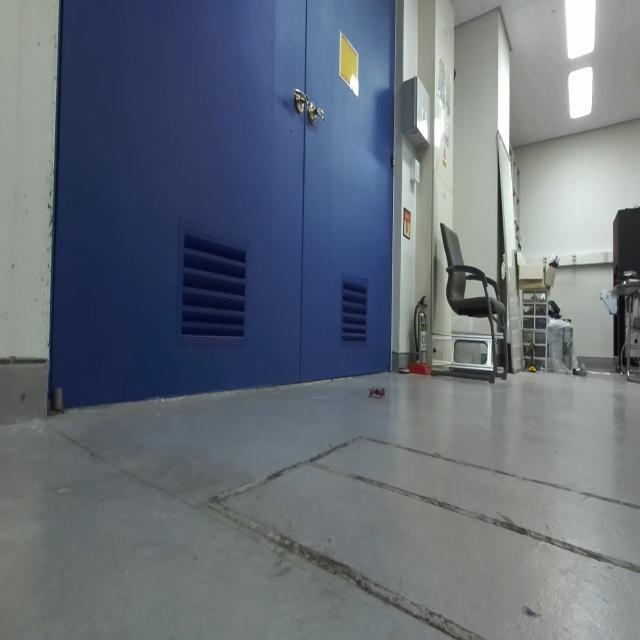crazyflie: (366, 379, 390, 406)
